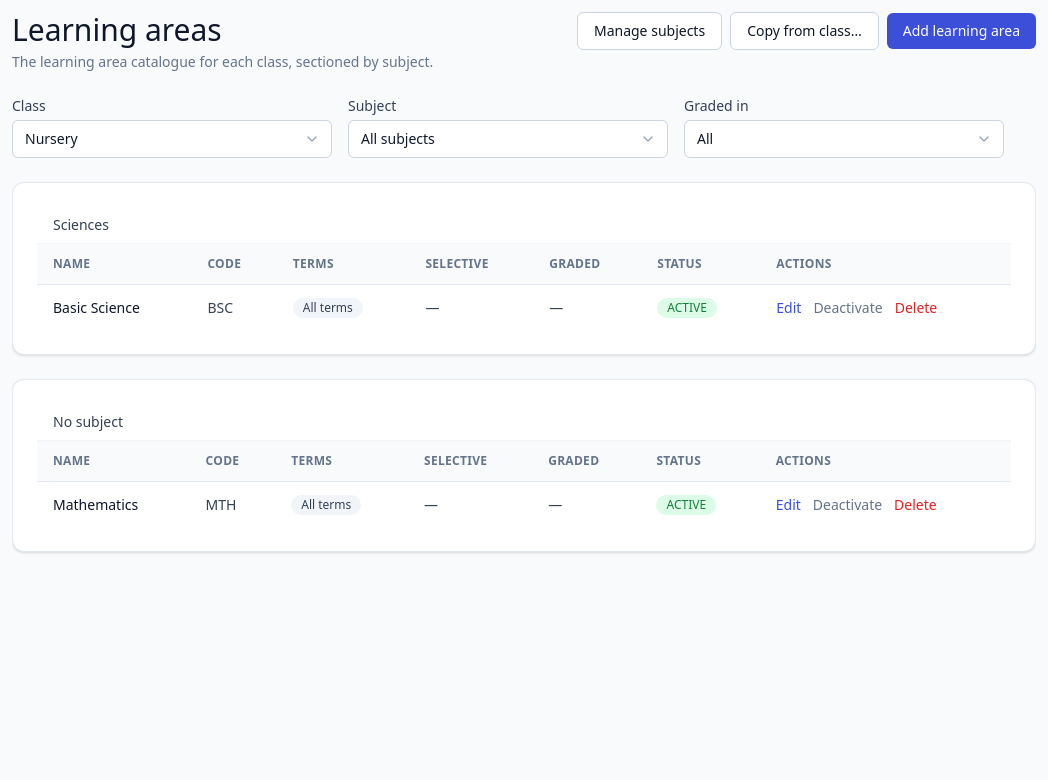
it: SubjectsPage › filters an early-years level's learning areas by subject
This screenshot has width=1048, height=780.
Expected: the text "Basic Science" is shown, [37,284,191,330]
Select "Sciences" in the dropdown labelled "Subject" at (508, 139), box [348,120,668,158]
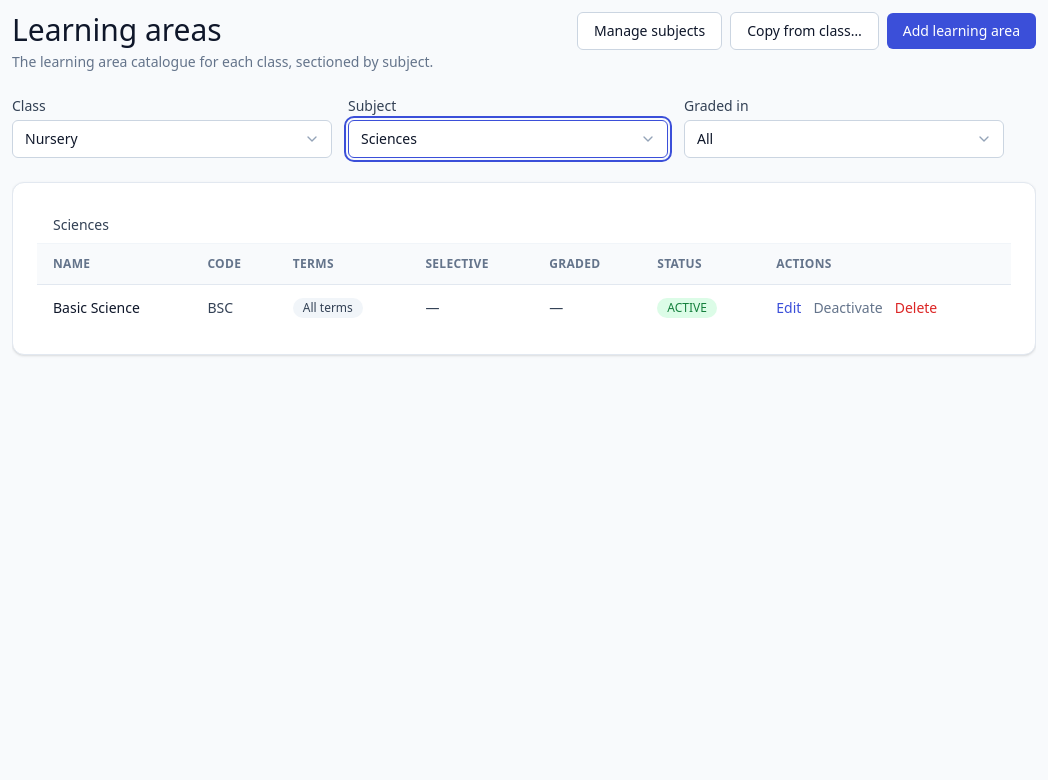
Expected: the text "Basic Science" is shown, [37,284,191,330]
Result: the text "Mathematics" is gone
Select "No subject" in the dropdown labelled "Subject" at (508, 139), box [348,120,668,158]
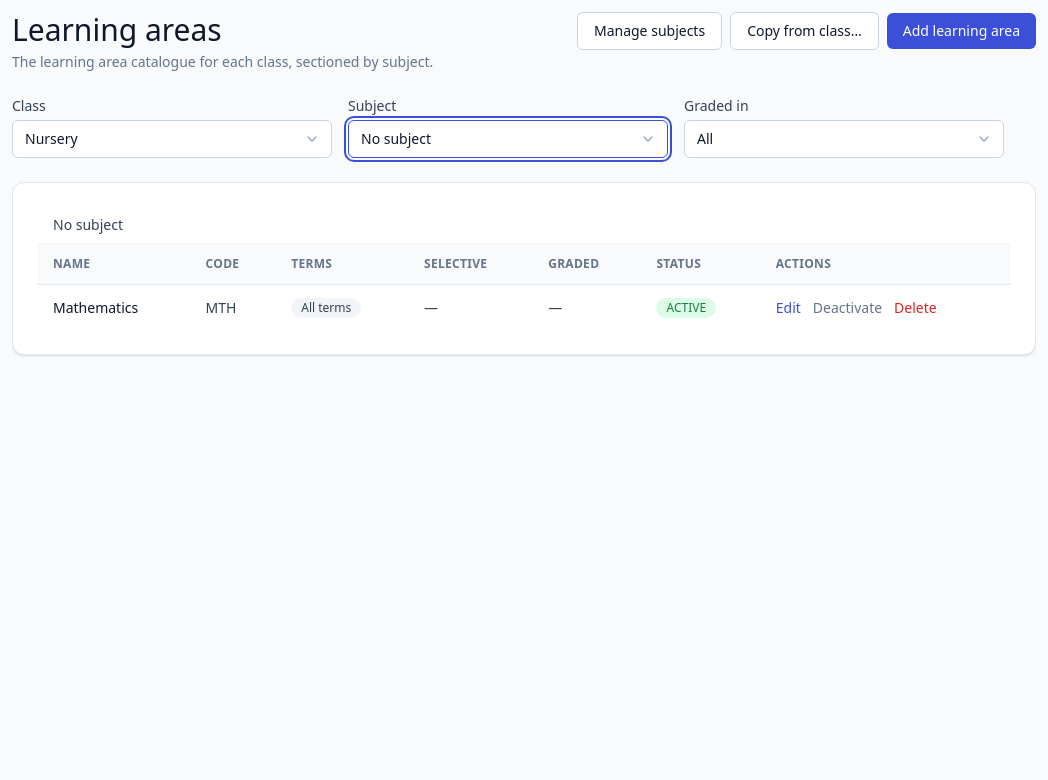
Result: the text "Mathematics" is shown at [37,284,190,330]
Result: the text "Basic Science" is gone
Select "All subjects" in the dropdown labelled "Subject" at (508, 139), box [348,120,668,158]
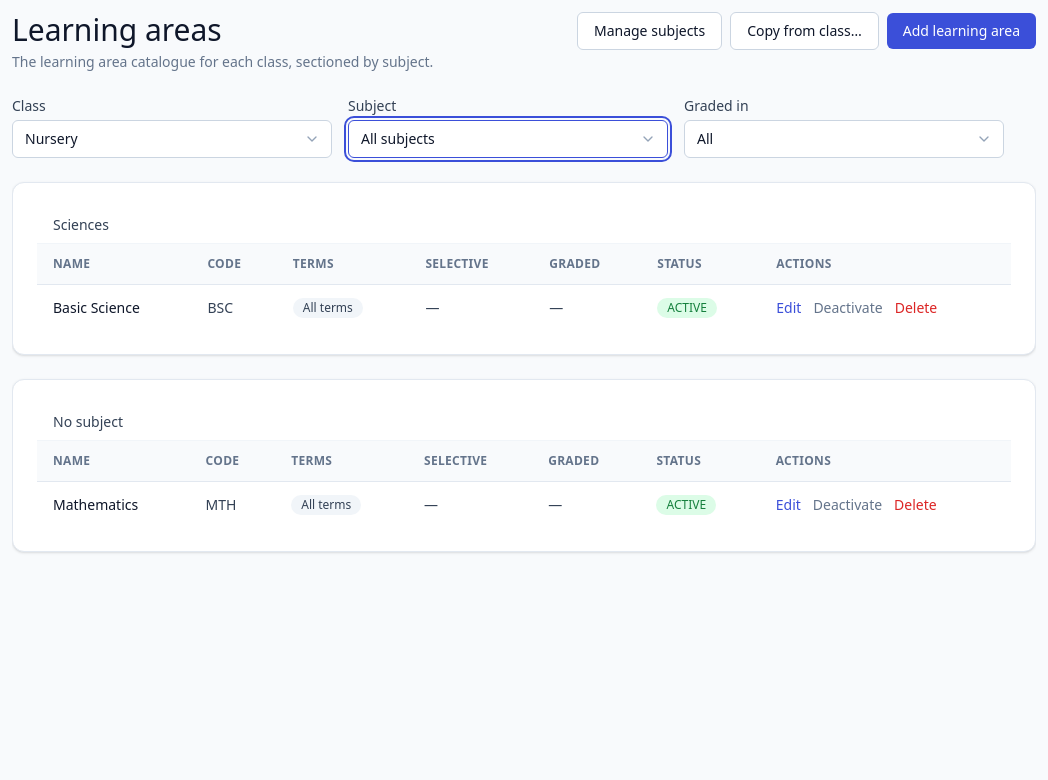
Result: the text "Mathematics" is shown at [37,482,190,527]
Result: the text "Basic Science" is shown at [37,284,191,330]
